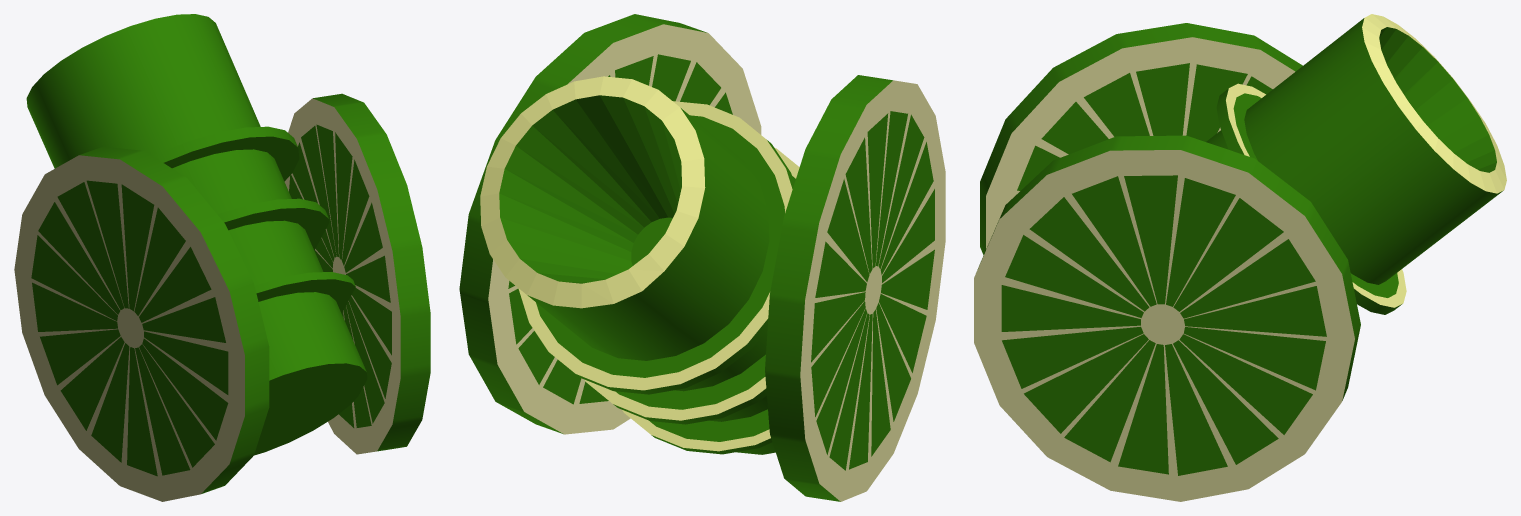
File: canon_vert.FBX
3 views of the same model, side by side, from view 1: azimuth 30°, elevation 25°; view 2: azimuth 150°, elevation 25°; view 3: azimuth 270°, elevation 25° (orthographic). The views are drawn at different scales.
Visible parts, largest first — view 1: canon001; view 2: canon001; view 3: canon001.
Part boxes in pixels (x1,y1,x2,y2): canon001: [14, 14, 430, 501]; canon001: [459, 14, 945, 501]; canon001: [974, 14, 1506, 501].
Bounding box in the file's own units: 40.69 × 50.75 × 59.91.
